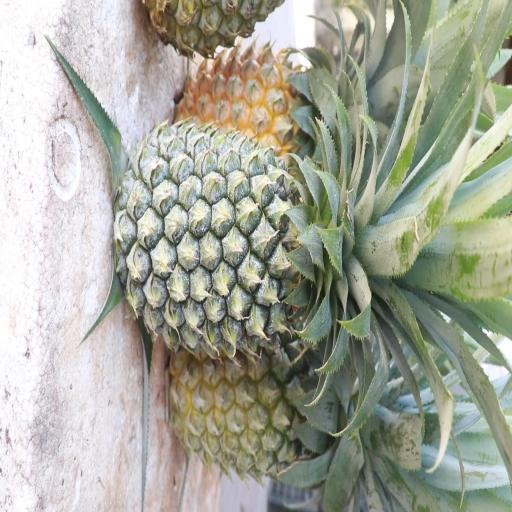------------------------------: (170, 338, 340, 480)
Pineapple - v8 v1: (178, 42, 356, 163)
